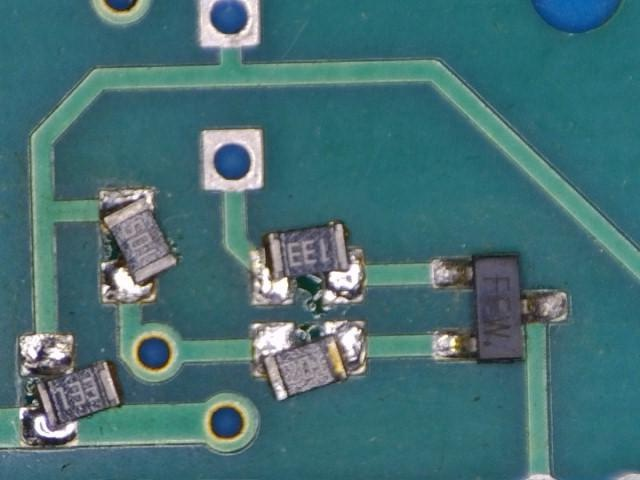pcb_defect: (18, 336, 122, 449), (251, 223, 367, 306), (251, 320, 367, 402), (99, 189, 178, 305)
